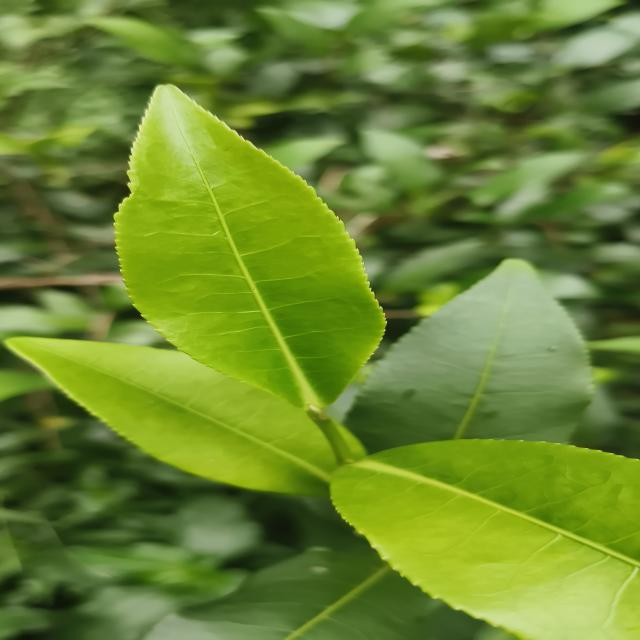Leaf: (115, 85, 384, 408), (331, 440, 640, 640), (7, 337, 338, 497), (346, 259, 593, 453), (145, 546, 434, 640)
